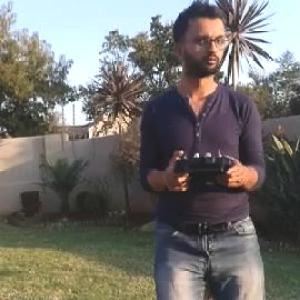follow: (134, 0, 274, 299)
